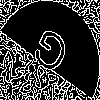G: (25, 25, 72, 85)
